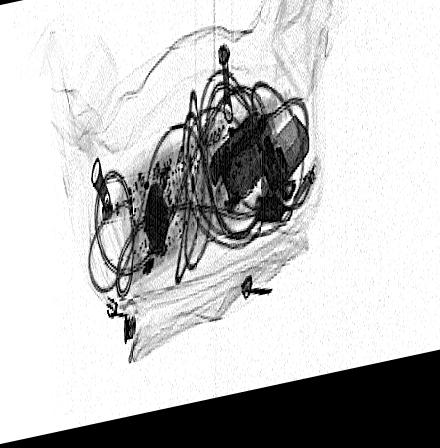Lighter: (214, 114, 309, 215)
